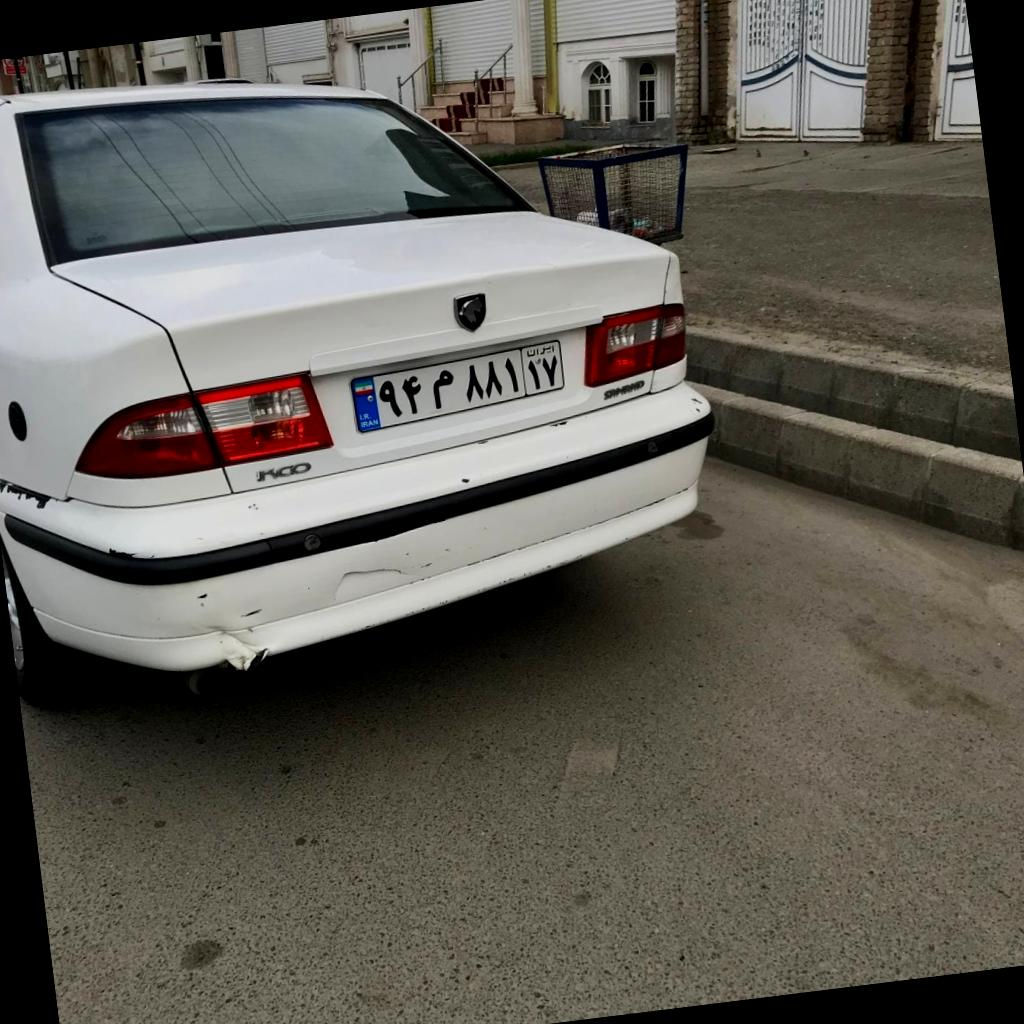Plates: (350, 340, 564, 433)
